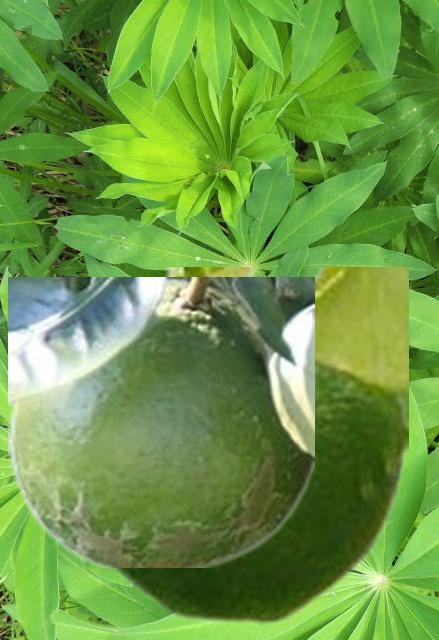dalandan: (104, 267, 407, 623), (8, 277, 313, 566)
